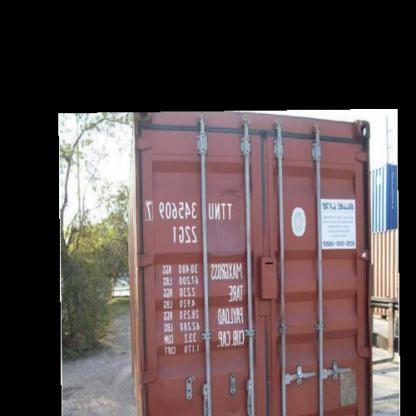Damage: (210, 176, 254, 206)
